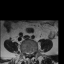CCS_severe_stenosis: (29, 50, 31, 58)
LFS_stenosis: (32, 49, 34, 55)
LLS_normal: (31, 50, 32, 57)
RFS_normal: (25, 49, 27, 56)
RLS_normal: (27, 50, 29, 58)
